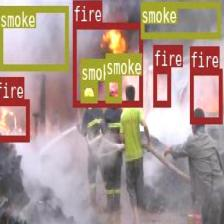fire: (72, 22, 142, 105), (189, 68, 222, 123), (0, 99, 29, 140), (153, 66, 170, 106)
smoke: (0, 4, 68, 69), (140, 1, 220, 37), (105, 75, 121, 101), (80, 80, 96, 102)
